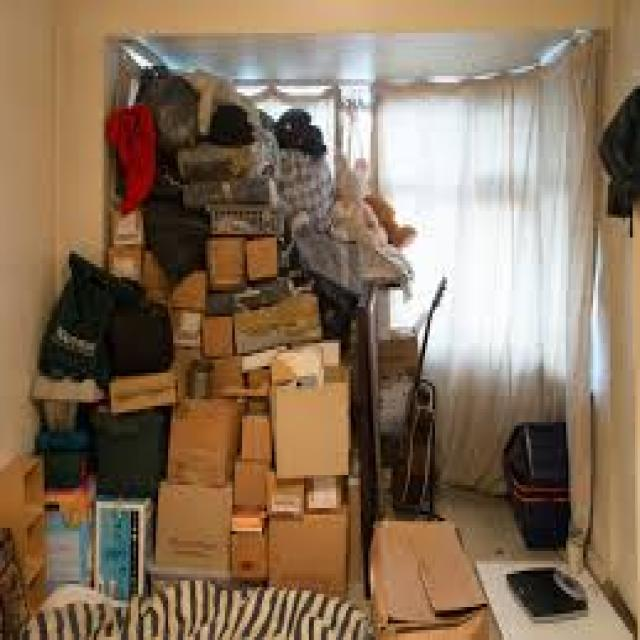box: (371, 522, 489, 639), (272, 370, 350, 478), (156, 482, 232, 577), (270, 509, 348, 597), (92, 410, 168, 498), (169, 400, 239, 488), (94, 499, 153, 600), (235, 294, 321, 356), (45, 482, 93, 590), (270, 340, 341, 385), (38, 429, 91, 488), (109, 370, 177, 412), (379, 373, 415, 435), (270, 347, 323, 385), (208, 238, 244, 290), (379, 330, 417, 379), (349, 476, 365, 587), (235, 459, 269, 511), (233, 532, 269, 580), (267, 472, 303, 517), (171, 271, 207, 313), (173, 347, 200, 402), (243, 413, 271, 465), (245, 238, 279, 280), (203, 317, 234, 359), (211, 357, 244, 395), (141, 251, 170, 293), (112, 208, 143, 247), (307, 479, 343, 511), (173, 311, 202, 349), (109, 248, 143, 280), (243, 347, 286, 372), (233, 509, 266, 534), (206, 291, 237, 316), (245, 370, 271, 389), (248, 396, 269, 415), (146, 291, 170, 306)
